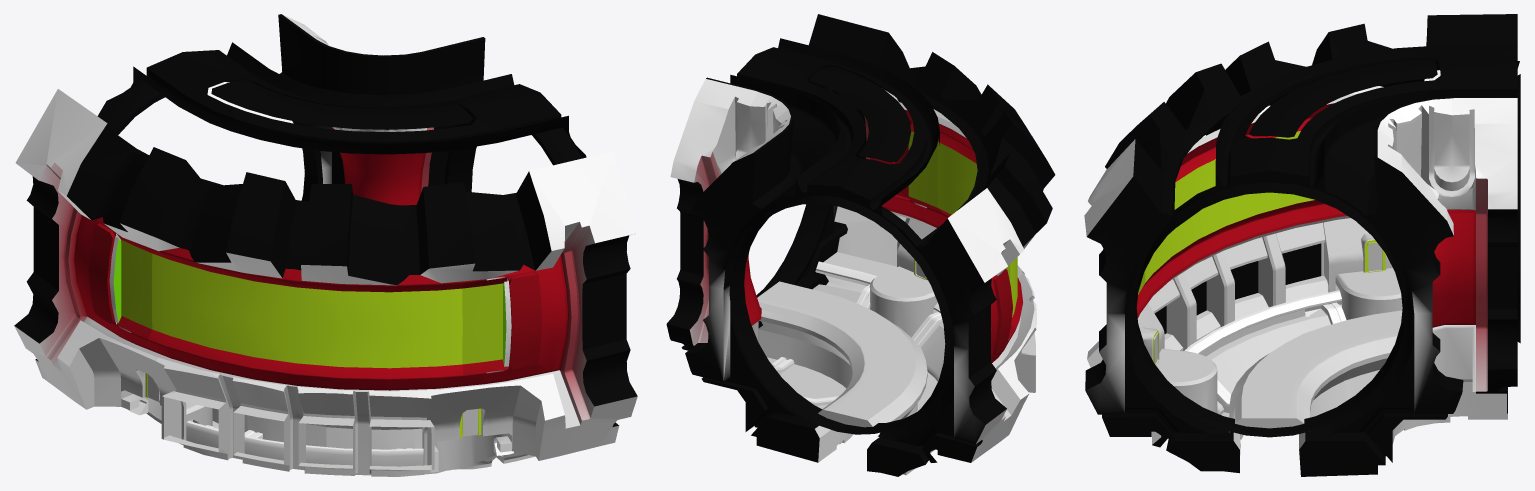
The model's file is part_main-lod0.dae.
The picture shows the model from 3 angles, left to right: view 1: azimuth 30°, elevation 25°; view 2: azimuth 150°, elevation 25°; view 3: azimuth 270°, elevation 25°; orthographic projection. The views are drawn at different scales.
Parts seen in each view (by area): view 1: part_main-lod0Xlod0Xp2genericXgen_p2_hulltextureaged_02_b, part_main-lod0Xlod0Xp2genericXgen_p2_hulltexture_02_c, part_main-lod0Xlod0Xp2genericXgen_p2_hullpattern_01, part_main-lod0Xlod0Xp2multimatXp2_multimat_01; view 2: part_main-lod0Xlod0Xp2genericXgen_p2_hulltextureaged_02_b, part_main-lod0Xlod0Xp2genericXgen_p2_hullpattern_01, part_main-lod0Xlod0Xp2genericXgen_p2_hulltexture_02_c, part_main-lod0Xlod0Xp2multimatXp2_multimat_01; view 3: part_main-lod0Xlod0Xp2genericXgen_p2_hulltextureaged_02_b, part_main-lod0Xlod0Xp2genericXgen_p2_hullpattern_01, part_main-lod0Xlod0Xp2genericXgen_p2_hulltexture_02_c, part_main-lod0Xlod0Xp2multimatXp2_multimat_01, part_main-lod0Xlod0Xp2genericXgen_p2_fx_01.
Boxes of the visible parts, <box> form: part_main-lod0Xlod0Xp2genericXgen_p2_hulltextureaged_02_b: <box>14,14,637,476</box>; part_main-lod0Xlod0Xp2genericXgen_p2_hulltexture_02_c: <box>147,50,560,378</box>; part_main-lod0Xlod0Xp2genericXgen_p2_hullpattern_01: <box>14,14,637,472</box>; part_main-lod0Xlod0Xp2multimatXp2_multimat_01: <box>75,152,565,437</box>; part_main-lod0Xlod0Xp2genericXgen_p2_hulltextureaged_02_b: <box>667,33,1052,475</box>; part_main-lod0Xlod0Xp2genericXgen_p2_hullpattern_01: <box>666,14,1036,476</box>; part_main-lod0Xlod0Xp2genericXgen_p2_hulltexture_02_c: <box>730,47,1023,329</box>; part_main-lod0Xlod0Xp2multimatXp2_multimat_01: <box>744,111,1055,362</box>; part_main-lod0Xlod0Xp2genericXgen_p2_hulltextureaged_02_b: <box>1085,19,1520,464</box>; part_main-lod0Xlod0Xp2genericXgen_p2_hullpattern_01: <box>1084,14,1519,476</box>; part_main-lod0Xlod0Xp2genericXgen_p2_hulltexture_02_c: <box>1145,55,1519,282</box>; part_main-lod0Xlod0Xp2multimatXp2_multimat_01: <box>1105,72,1473,365</box>; part_main-lod0Xlod0Xp2genericXgen_p2_fx_01: <box>1154,243,1321,333</box>.
Size of the model in its own units: 28.15 by 23.08 by 28.15.
